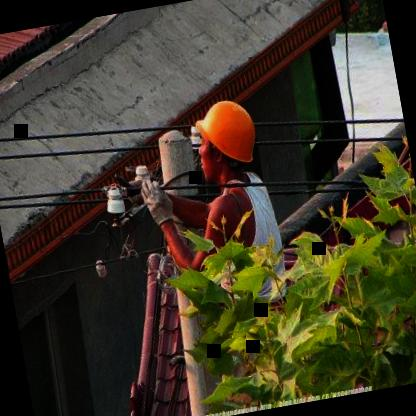helmet: (187, 89, 270, 190)
